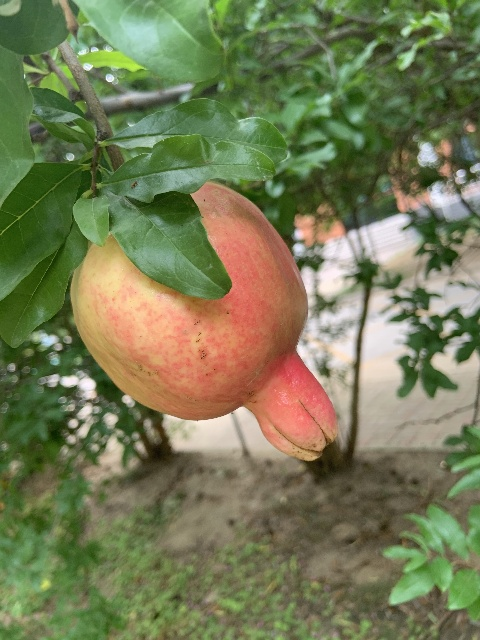ripe: (70, 183, 339, 460)
